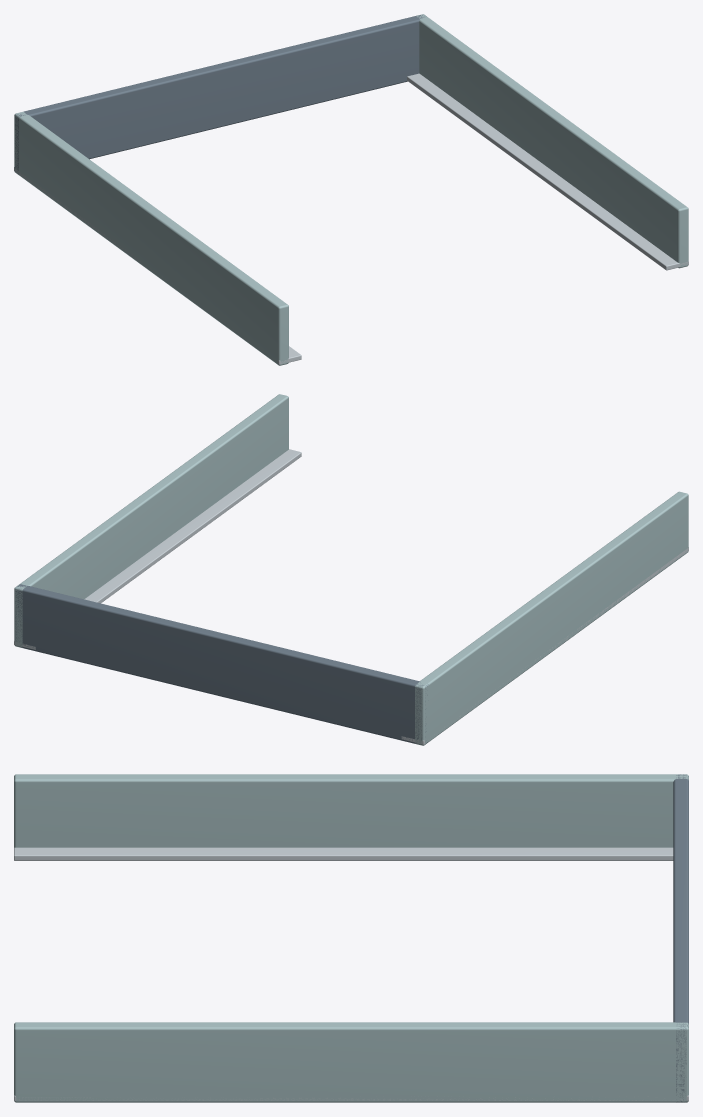
The model's file is SLOT4.glb.
The picture shows the model from 3 angles, top to bottom: view 1: azimuth 30°, elevation 25°; view 2: azimuth 150°, elevation 25°; view 3: azimuth 270°, elevation 25°; orthographic projection. The views are drawn at different scales.
Visible parts, largest first — view 1: SLOT4/0004_back_stop, SLOT4/0000_rail, SLOT4/0002_rail, SLOT4/0003_support_lip; view 2: SLOT4/0004_back_stop, SLOT4/0000_rail, SLOT4/0002_rail, SLOT4/0003_support_lip; view 3: SLOT4/0002_rail, SLOT4/0000_rail, SLOT4/0001_support_lip, SLOT4/0004_back_stop, SLOT4/0003_support_lip.
Boxes of the visible parts, left/top/right/bottom form: SLOT4/0004_back_stop: left=14, top=14, right=426, bottom=174; SLOT4/0000_rail: left=14, top=112, right=288, bottom=365; SLOT4/0002_rail: left=416, top=14, right=688, bottom=268; SLOT4/0003_support_lip: left=407, top=73, right=688, bottom=270; SLOT4/0004_back_stop: left=15, top=584, right=428, bottom=744; SLOT4/0000_rail: left=415, top=491, right=688, bottom=745; SLOT4/0002_rail: left=14, top=394, right=288, bottom=647; SLOT4/0003_support_lip: left=14, top=449, right=301, bottom=649; SLOT4/0002_rail: left=14, top=1022, right=688, bottom=1102; SLOT4/0000_rail: left=14, top=774, right=688, bottom=847; SLOT4/0001_support_lip: left=14, top=847, right=673, bottom=860; SLOT4/0004_back_stop: left=673, top=774, right=688, bottom=1102; SLOT4/0003_support_lip: left=14, top=1095, right=688, bottom=1101.
Size of the model in its own units: 0.464 by 0.064 by 0.52.
